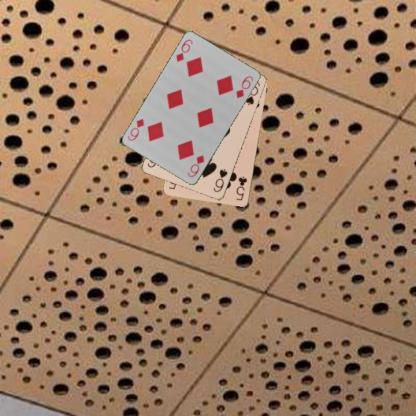5c: (234, 174, 249, 202)
6d: (173, 36, 194, 64), (185, 152, 206, 178)
6s: (211, 166, 229, 194)
